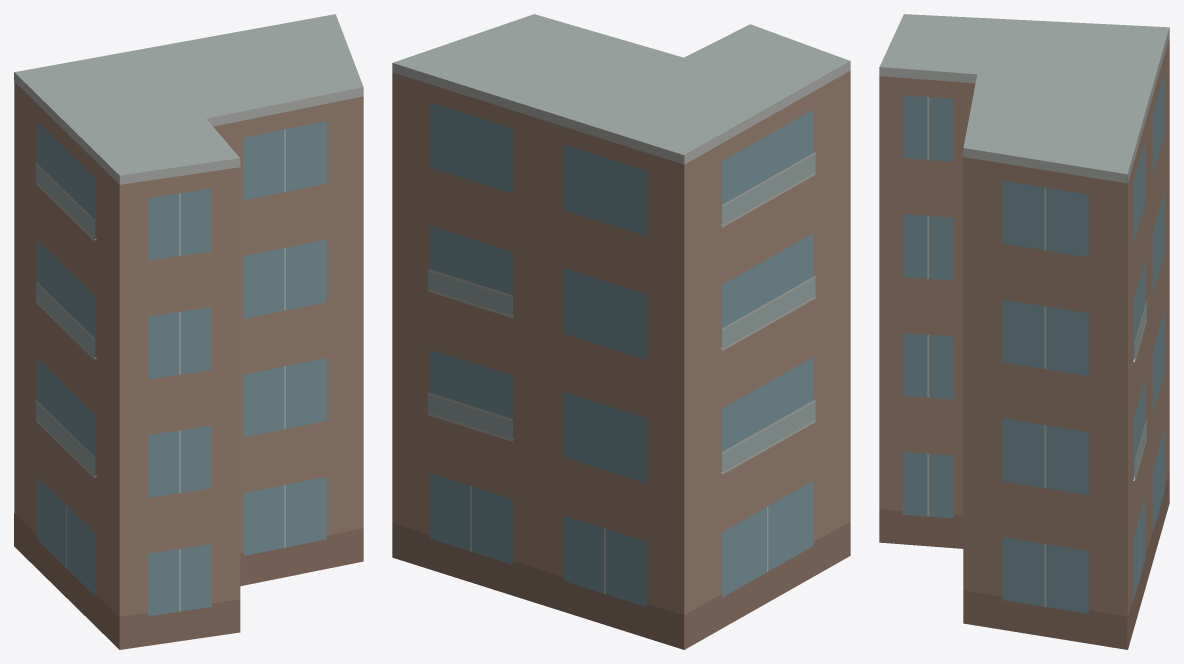
Rendered from survey-upis-32473153.glb.
3 renders of one model, left to right at view 1: azimuth 30°, elevation 25°; view 2: azimuth 150°, elevation 25°; view 3: azimuth 270°, elevation 25°, orthographic. The views are drawn at different scales.
Parts seen in each view (by area): view 1: survey-upis-32473153.tmp; view 2: survey-upis-32473153.tmp; view 3: survey-upis-32473153.tmp.
Part boxes in pixels (box(x1,y1,x2,y2)): survey-upis-32473153.tmp: box(14, 14, 363, 649); survey-upis-32473153.tmp: box(392, 14, 850, 649); survey-upis-32473153.tmp: box(879, 14, 1169, 649).
Bounding box in the file's own units: 9.19 × 12.7 × 7.03.
